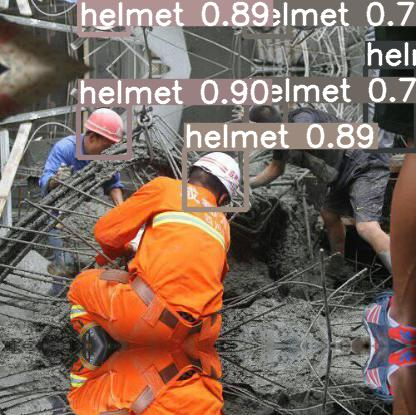helmet: (365, 66, 416, 150), (184, 148, 246, 209), (78, 104, 129, 157), (246, 102, 285, 146), (79, 0, 128, 34), (244, 0, 288, 36)
